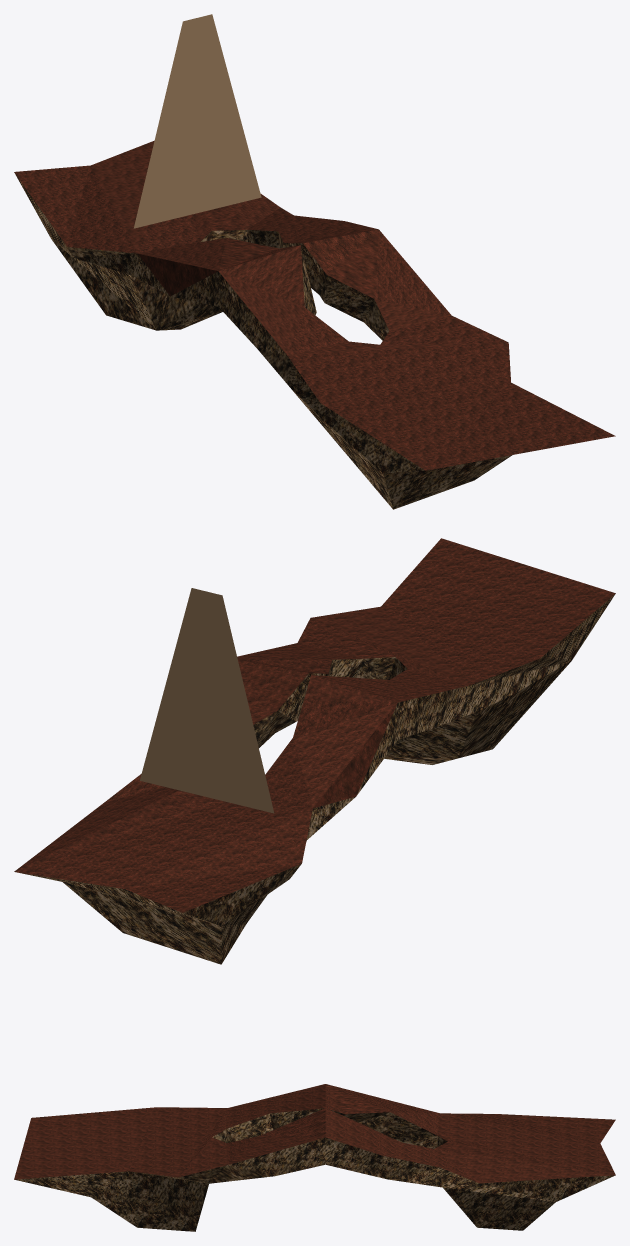
File: facingworlds_block.gltf
3 renders of one model, top to bottom at view 1: azimuth 30°, elevation 25°; view 2: azimuth 150°, elevation 25°; view 3: azimuth 270°, elevation 25°, orthographic. The views are drawn at different scales.
Parts seen in each view (by area): view 1: Plane.001, Plane; view 2: Plane.001, Plane; view 3: Plane.001.
Part boxes in pixels (left/top/right/bottom): Plane.001: left=14, top=140, right=615, bottom=509; Plane: left=133, top=14, right=261, bottom=228; Plane.001: left=14, top=538, right=615, bottom=964; Plane: left=140, top=588, right=274, bottom=813; Plane.001: left=14, top=1084, right=615, bottom=1231.
Size of the model in its own units: 35.56 by 50.79 by 120.
Materials: 3 (2 with a texture image).
